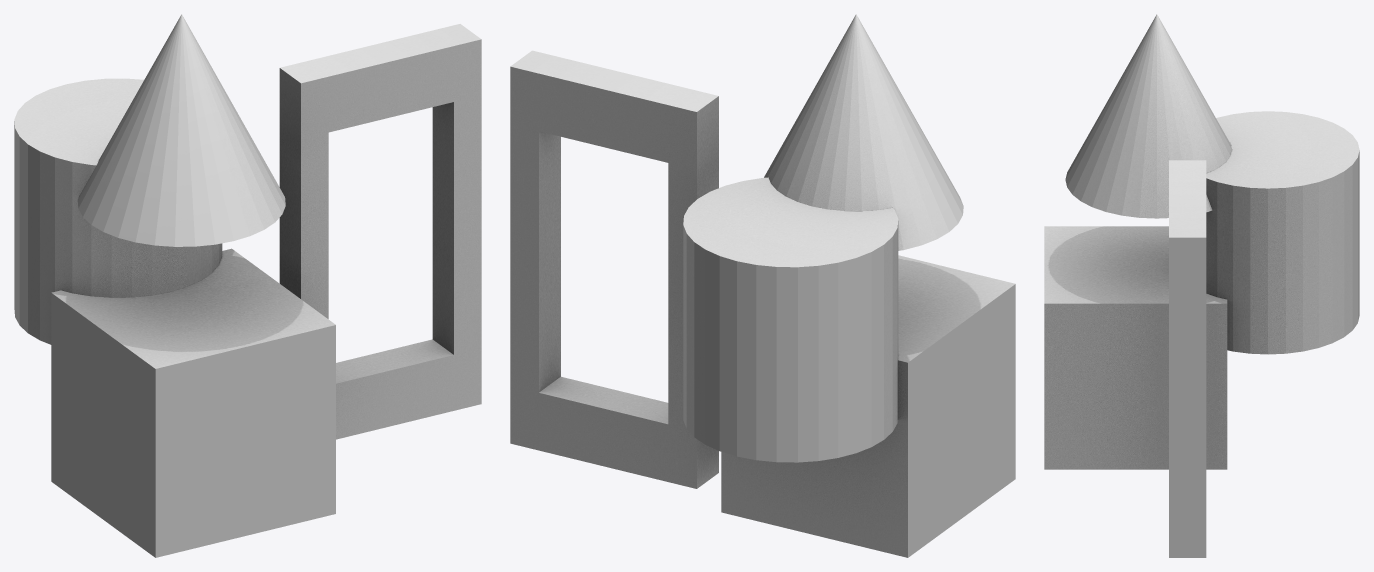
The picture shows the model from 3 angles, left to right: view 1: azimuth 30°, elevation 25°; view 2: azimuth 150°, elevation 25°; view 3: azimuth 270°, elevation 25°; orthographic projection. The views are drawn at different scales.
Parts seen in each view (by area): view 1: Cube, Door, Cone, Cylinder; view 2: Cylinder, Door, Cube, Cone; view 3: Cube, Cylinder, Cone, Door.
Part boxes in pixels (x1=…): Cube: x1=51, y1=248, x2=335, y2=557; Door: x1=279, y1=24, x2=481, y2=439; Cone: x1=77, y1=14, x2=285, y2=246; Cylinder: x1=14, y1=78, x2=222, y2=344; Cylinder: x1=683, y1=177, x2=898, y2=462; Door: x1=510, y1=50, x2=718, y2=488; Cube: x1=721, y1=255, x2=1015, y2=557; Cone: x1=764, y1=14, x2=963, y2=250; Cube: x1=1044, y1=226, x2=1227, y2=469; Cylinder: x1=1206, y1=111, x2=1359, y2=354; Cone: x1=1065, y1=14, x2=1231, y2=218; Door: x1=1169, y1=160, x2=1206, y2=557.
Bounding box in the file's own units: 4.4 × 3.44 × 5.03.
Materials: 4 (4 with a texture image).
